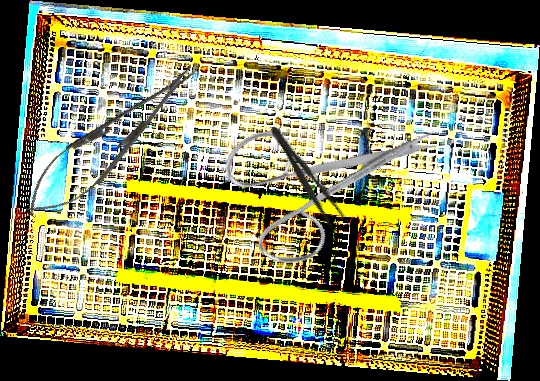Dressing Forceps: (262, 121, 360, 246)
Iris Scissors: (194, 45, 445, 304)
Needle Holder: (12, 50, 210, 233)
